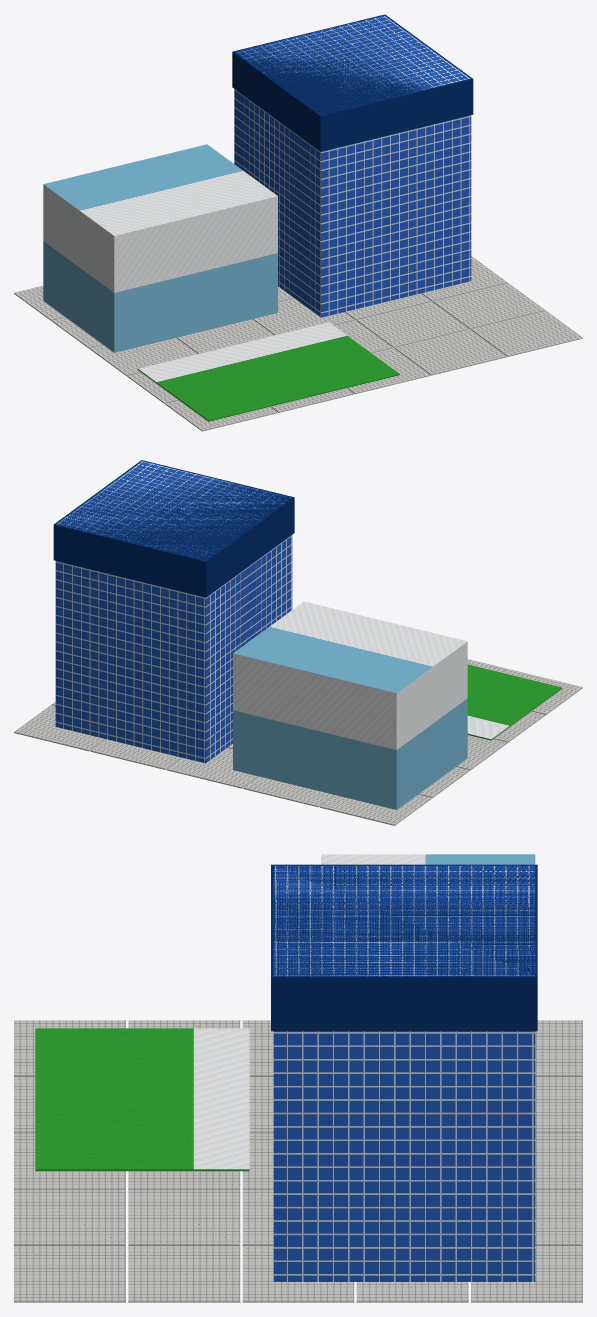
3 views of the same model, one above another, from view 1: azimuth 30°, elevation 25°; view 2: azimuth 150°, elevation 25°; view 3: azimuth 270°, elevation 25° (orthographic). The views are drawn at different scales.
Parts seen in each view (by area): view 1: 28185_B29_HUFS_Songdo_Campus; view 2: 28185_B29_HUFS_Songdo_Campus; view 3: 28185_B29_HUFS_Songdo_Campus.
Boxes of the visible parts, box(x1,y1,x2,y2) form: 28185_B29_HUFS_Songdo_Campus: box(14, 14, 582, 431); 28185_B29_HUFS_Songdo_Campus: box(14, 460, 582, 825); 28185_B29_HUFS_Songdo_Campus: box(14, 854, 582, 1302).
Size of the model in its own units: 55.8 by 28.5 by 47.8.
Materials: 1 (1 with a texture image).
